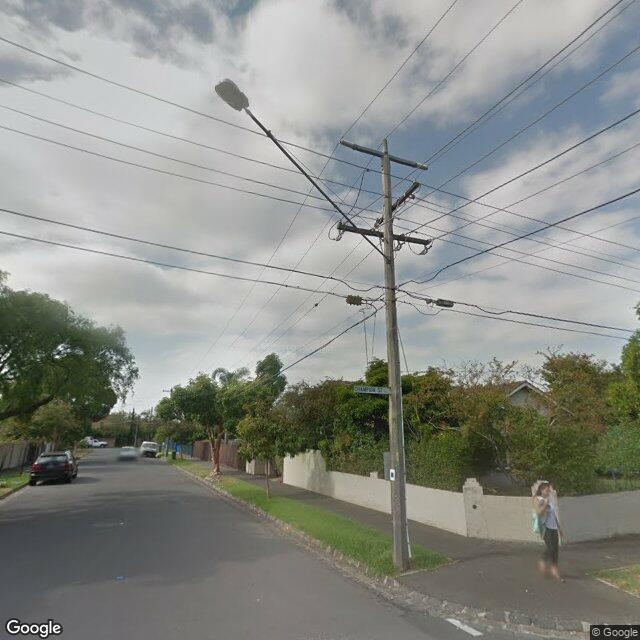HV-transmission: (339, 136, 429, 172)
crossarm: (329, 218, 433, 256), (373, 180, 422, 228), (354, 144, 417, 170)
streetlight: (214, 78, 390, 262)
timber-pole: (382, 152, 410, 568)
